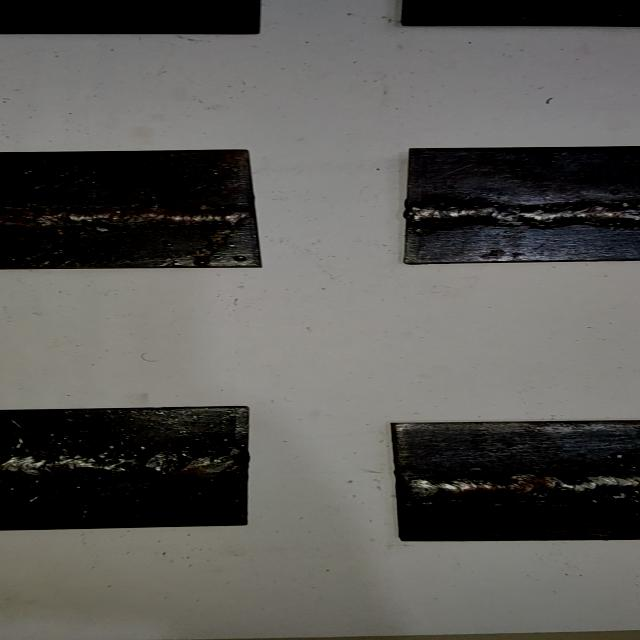Bad Weld: (0, 448, 241, 481), (400, 472, 640, 505)
Defect: (100, 441, 202, 487), (534, 466, 613, 511)
Good Weld: (0, 202, 251, 230), (411, 203, 640, 227)
